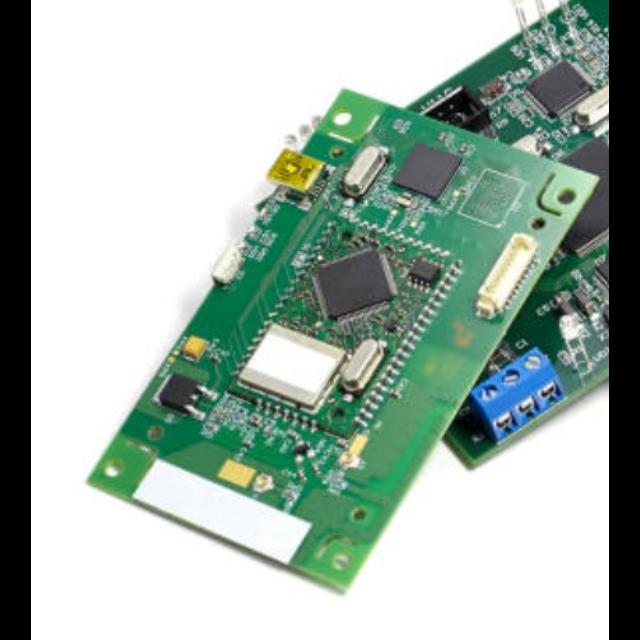PCB: (88, 89, 600, 592)
